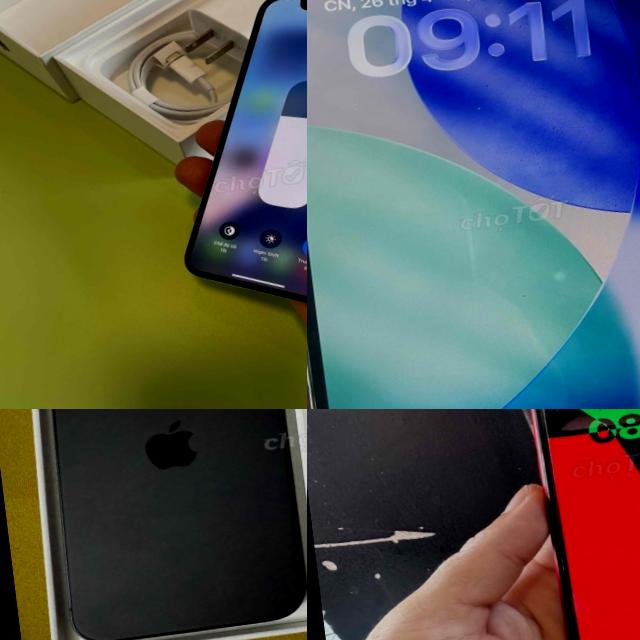gen_12_13: (307, 0, 640, 409)
gen_16: (51, 409, 304, 640)
gen_7_8: (486, 409, 640, 640)
gen_x_xs: (184, 0, 307, 303)
